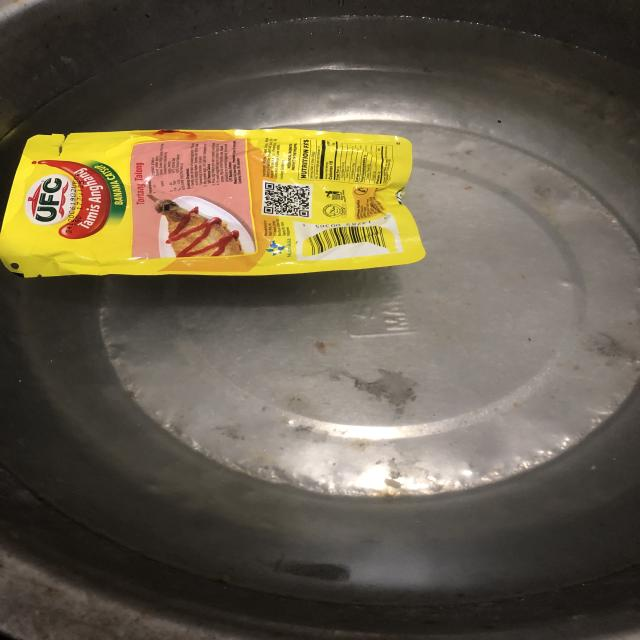Plastic Pouch: (0, 129, 425, 277)
